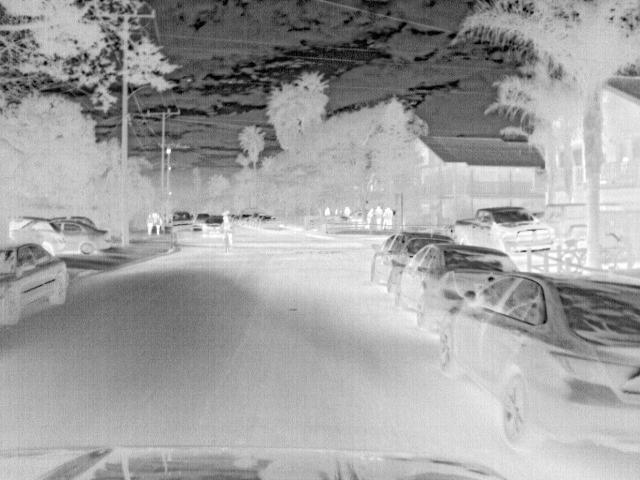car: (436, 273, 639, 453), (400, 245, 519, 332), (0, 241, 69, 329), (448, 205, 557, 258), (369, 230, 450, 292), (3, 213, 73, 259), (48, 219, 114, 260), (203, 214, 225, 236), (193, 214, 212, 230)
person: (222, 214, 236, 244), (373, 203, 387, 228), (381, 204, 395, 227), (145, 215, 157, 236), (364, 208, 377, 224)
